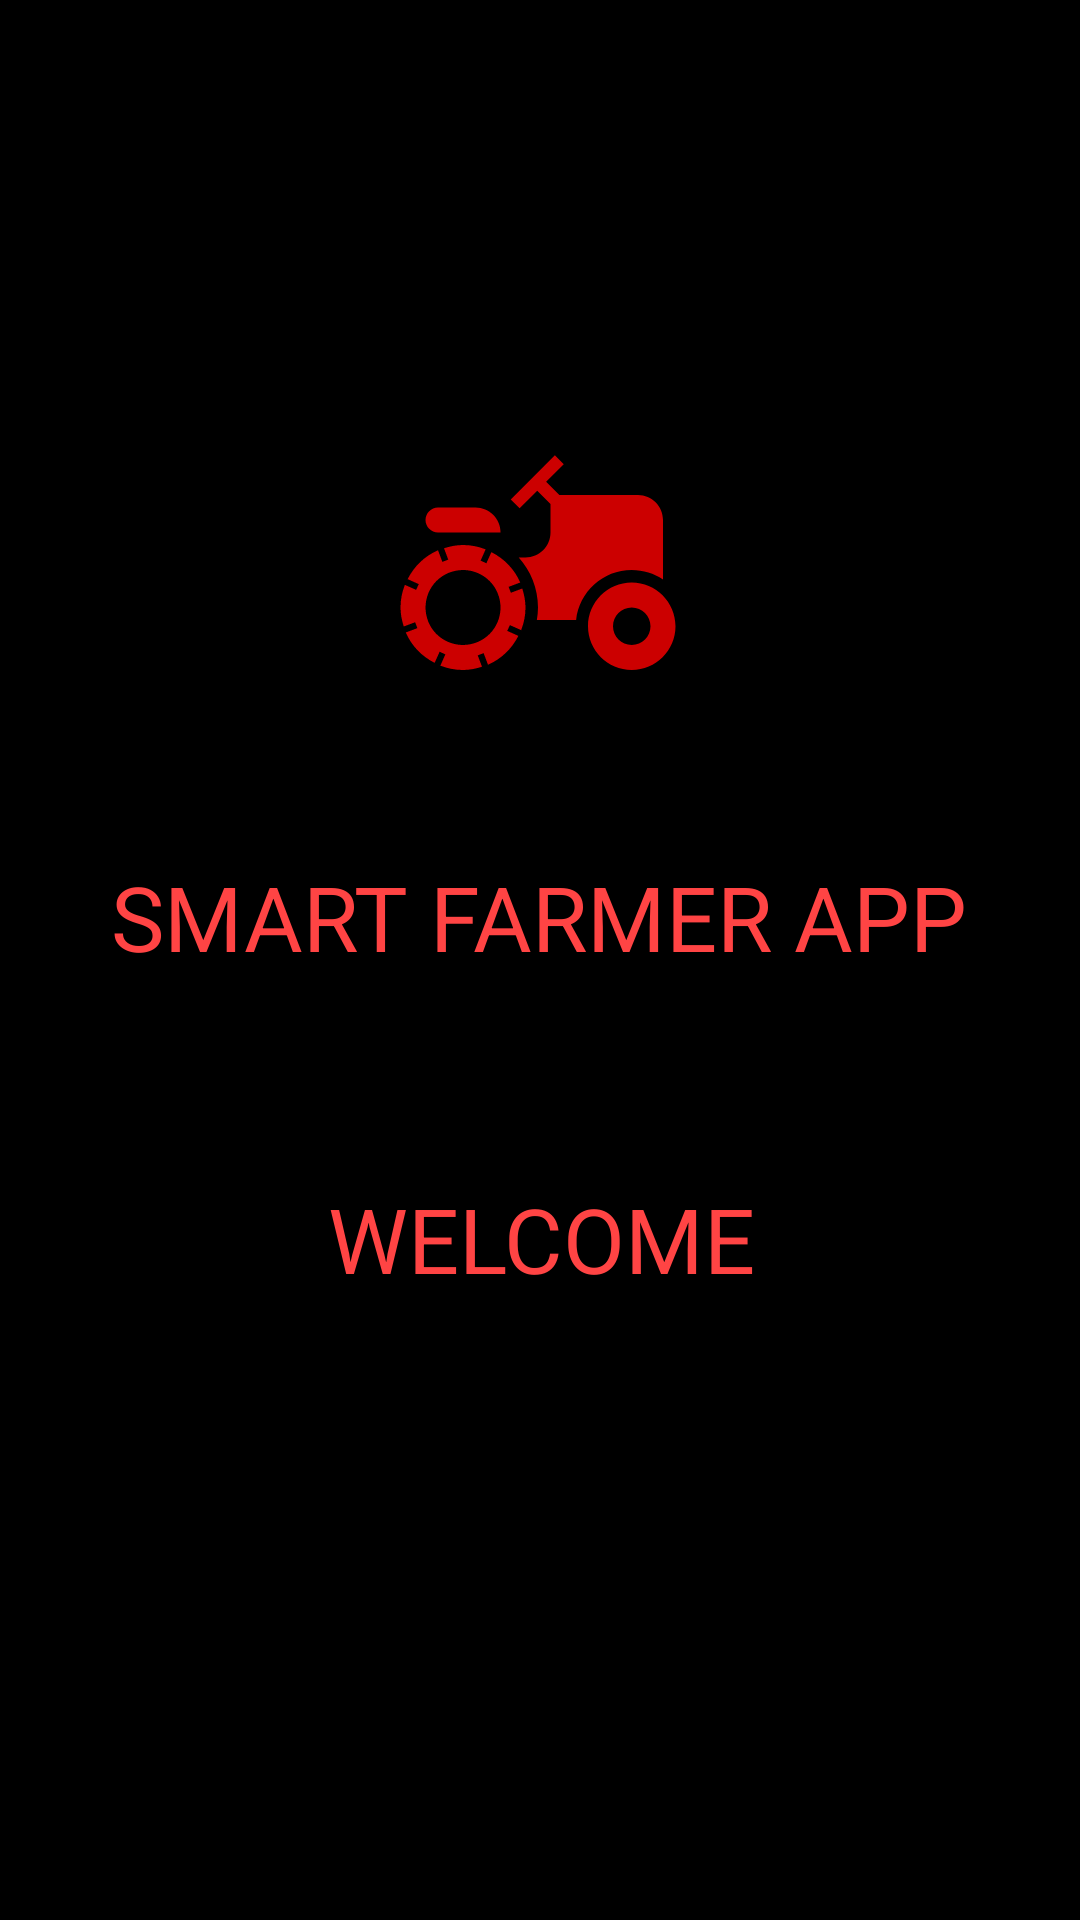

Locate icon controls on the screen. Image size 1080*1920, boxes as bbox=(x1, y1, x2, y2).
agriculture: bbox=(400, 455, 676, 670)
